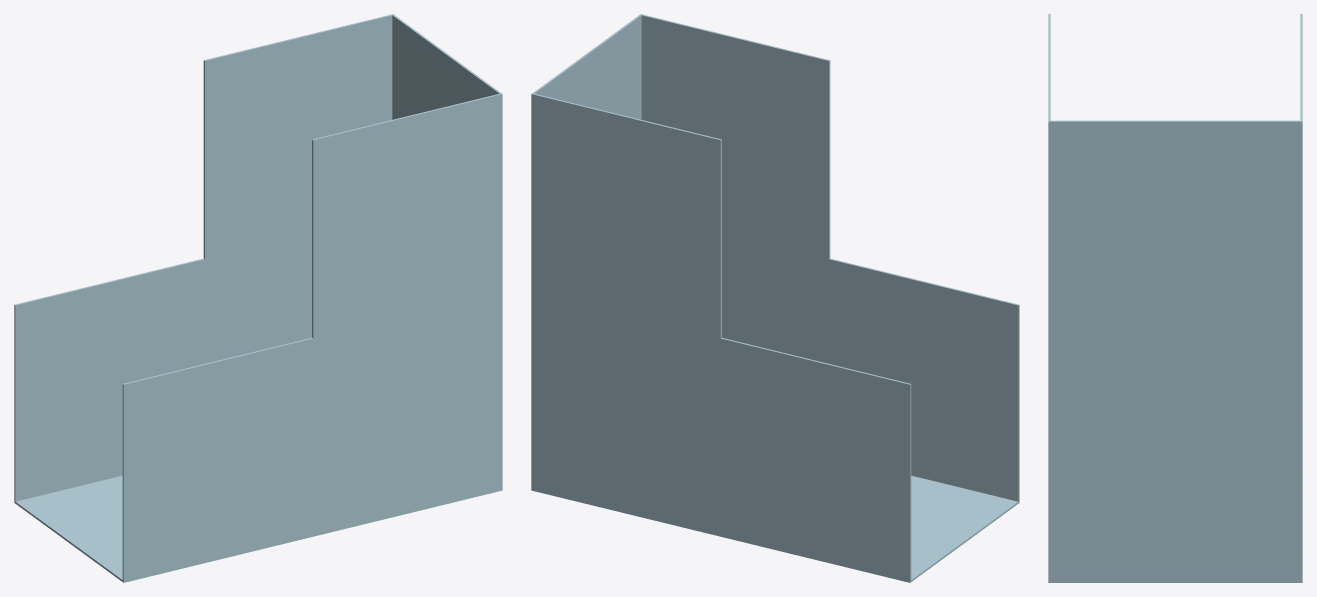
3 views of the same model, side by side, from view 1: azimuth 30°, elevation 25°; view 2: azimuth 150°, elevation 25°; view 3: azimuth 270°, elevation 25° (orthographic). The views are drawn at different scales.
Parts seen in each view (by area): view 1: L3-C17; view 2: L3-C17; view 3: L3-C17.
Part boxes in pixels (x1=…): L3-C17: x1=14, y1=14, x2=502, y2=582; L3-C17: x1=531, y1=14, x2=1019, y2=582; L3-C17: x1=1048, y1=14, x2=1302, y2=582.
Size of the model in its own units: 0.4 by 0.4 by 0.2.
